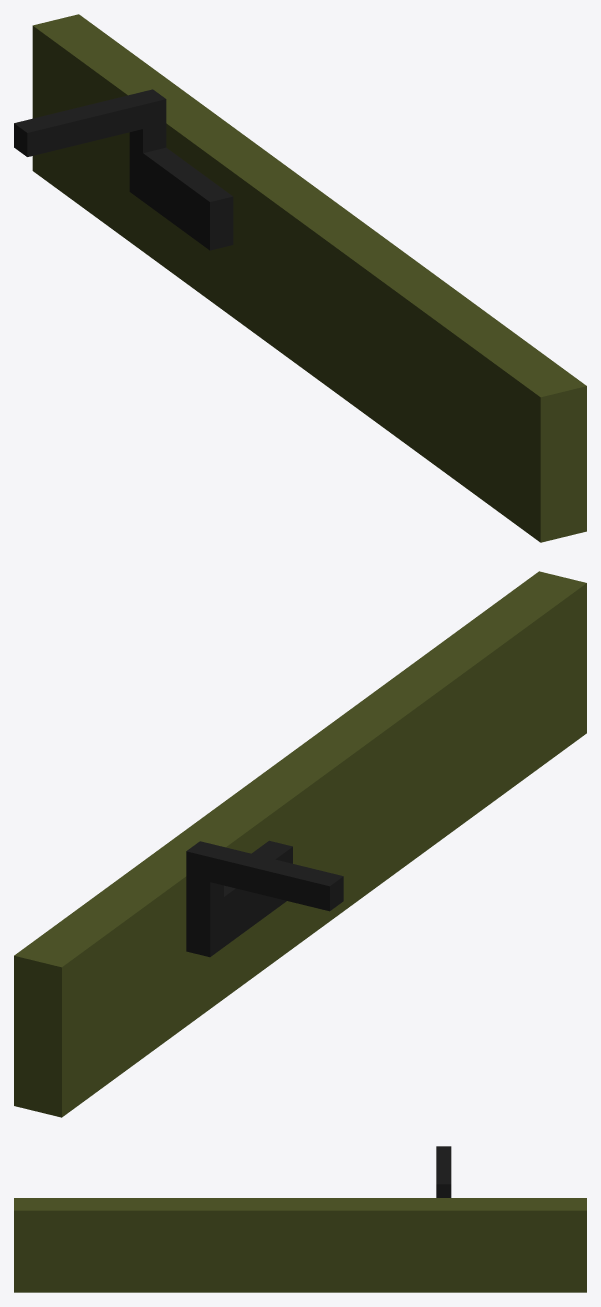
File: army_jeep_dashboard.glb
3 renders of one model, top to bottom at view 1: azimuth 30°, elevation 25°; view 2: azimuth 150°, elevation 25°; view 3: azimuth 270°, elevation 25°, orthographic. The views are drawn at different scales.
Visible parts, largest first — view 1: body:compound; view 2: body:compound; view 3: body:compound.
Boxes of the visible parts, x1,y1,x2,y2 form: body:compound: (14, 14, 586, 542); body:compound: (14, 571, 586, 1117); body:compound: (14, 1146, 586, 1292).
Size of the model in its own units: 0.25 by 0.2188 by 1.19.
